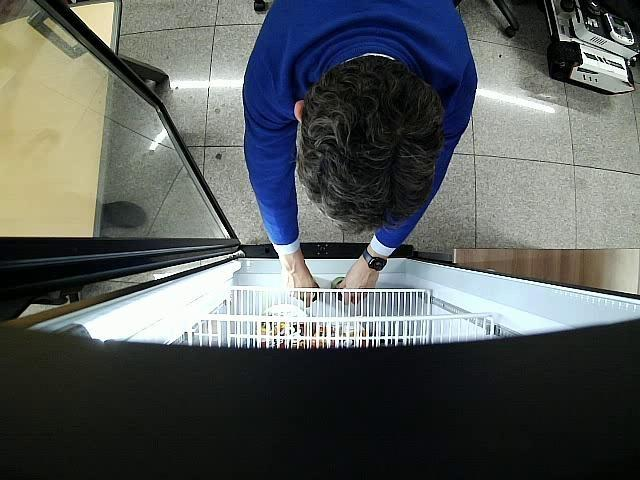19_17cha: (332, 277, 346, 301)
